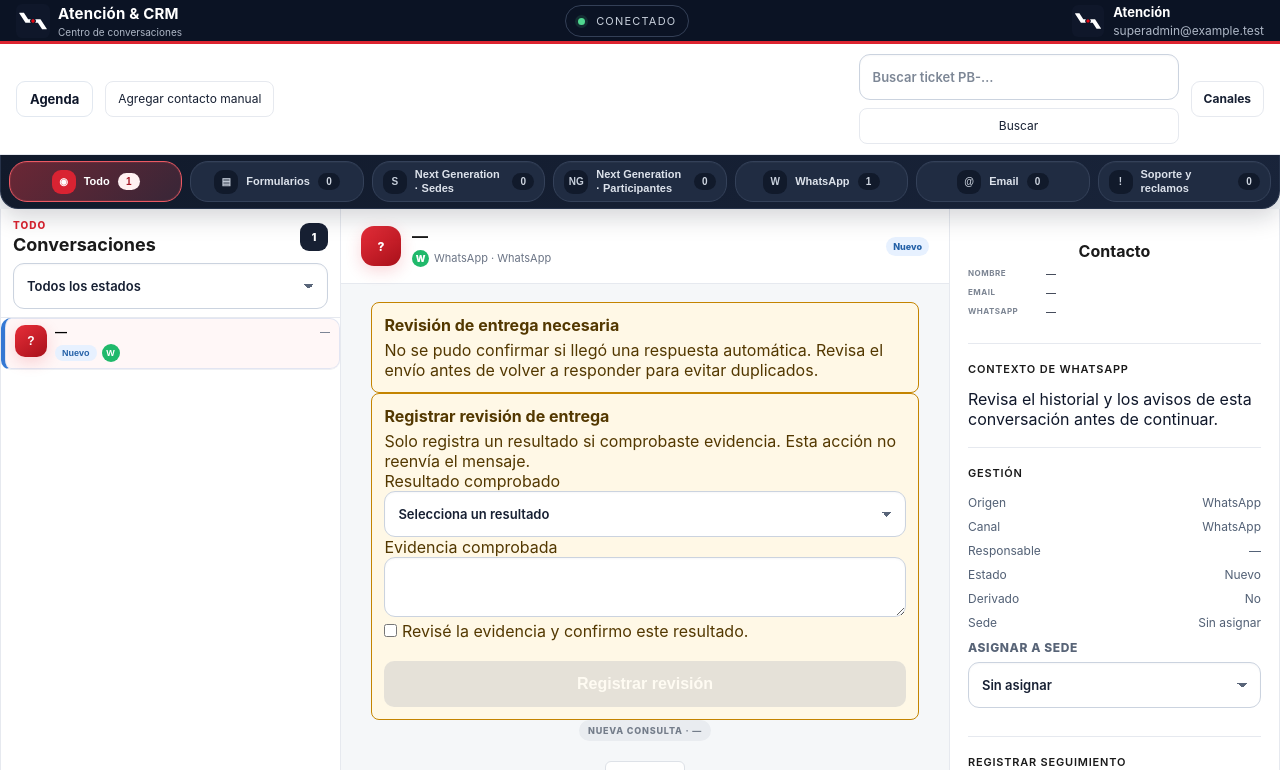
Scenario: CRM histórico unificado › tras revisar no entregado consulta el servidor y solo desbloquea si informa clear
Step 1. Select "Comprobé que no se entregó" in the dropdown labelled "Resultado comprobado" → (645, 514), box [384,491,906,537]
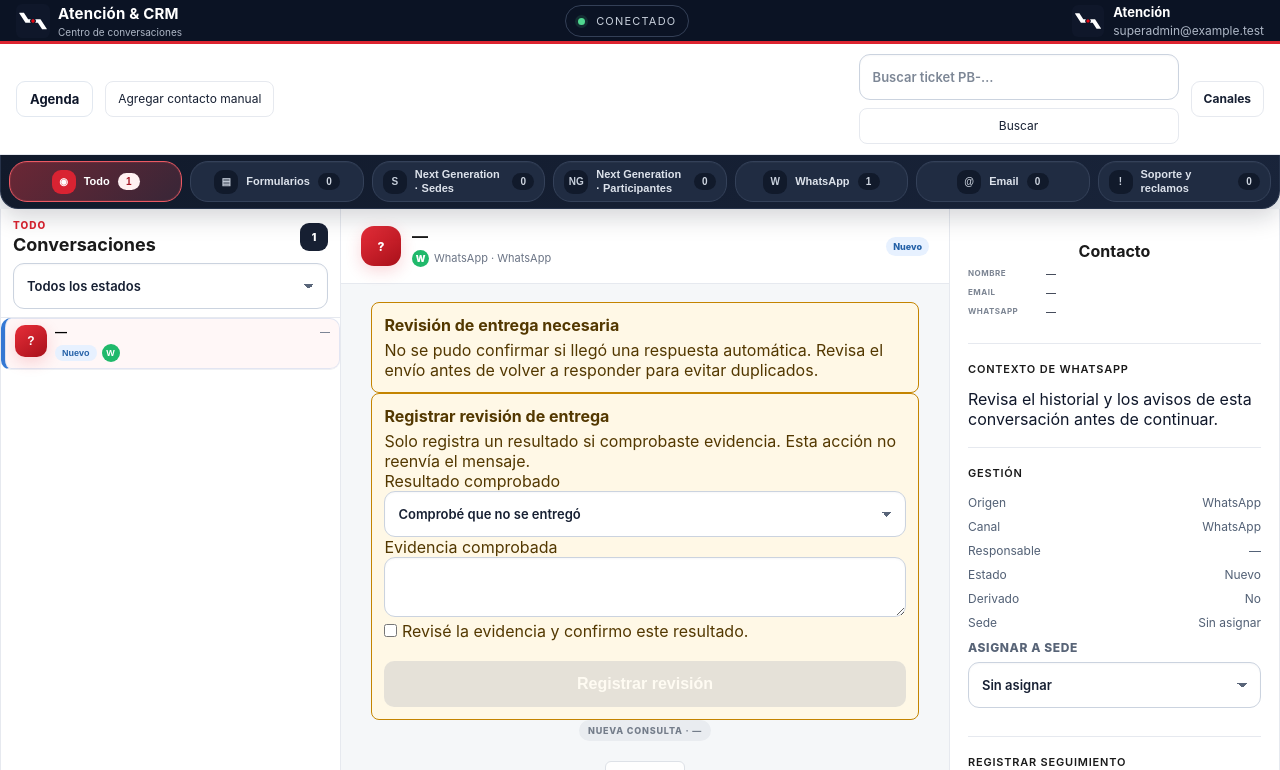
Step 2. Type "Registro de Meta revisado" into the text box labelled "Evidencia comprobada" → (645, 587), box [384,557,906,617]
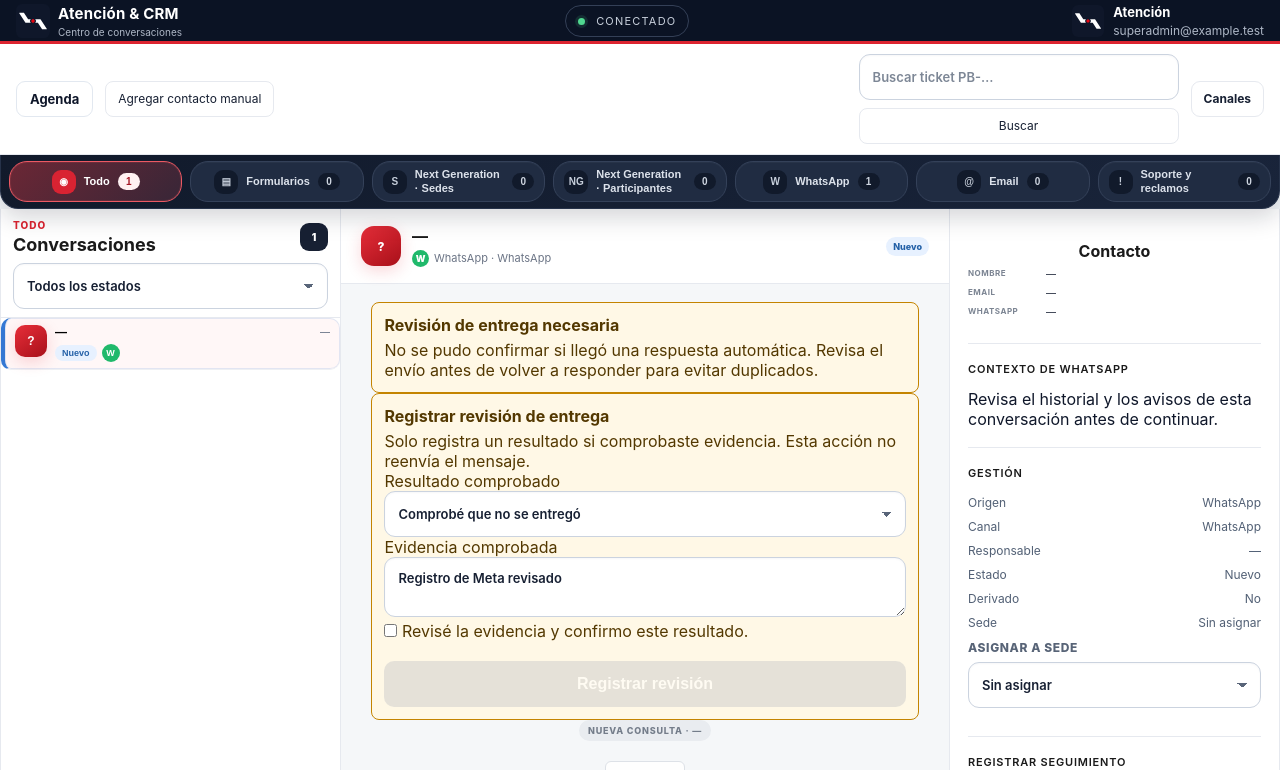
Step 3. Click the checkbox labelled "Revisé la evidencia y confirmo este resultado." → click(391, 631), box [384,624,397,637]
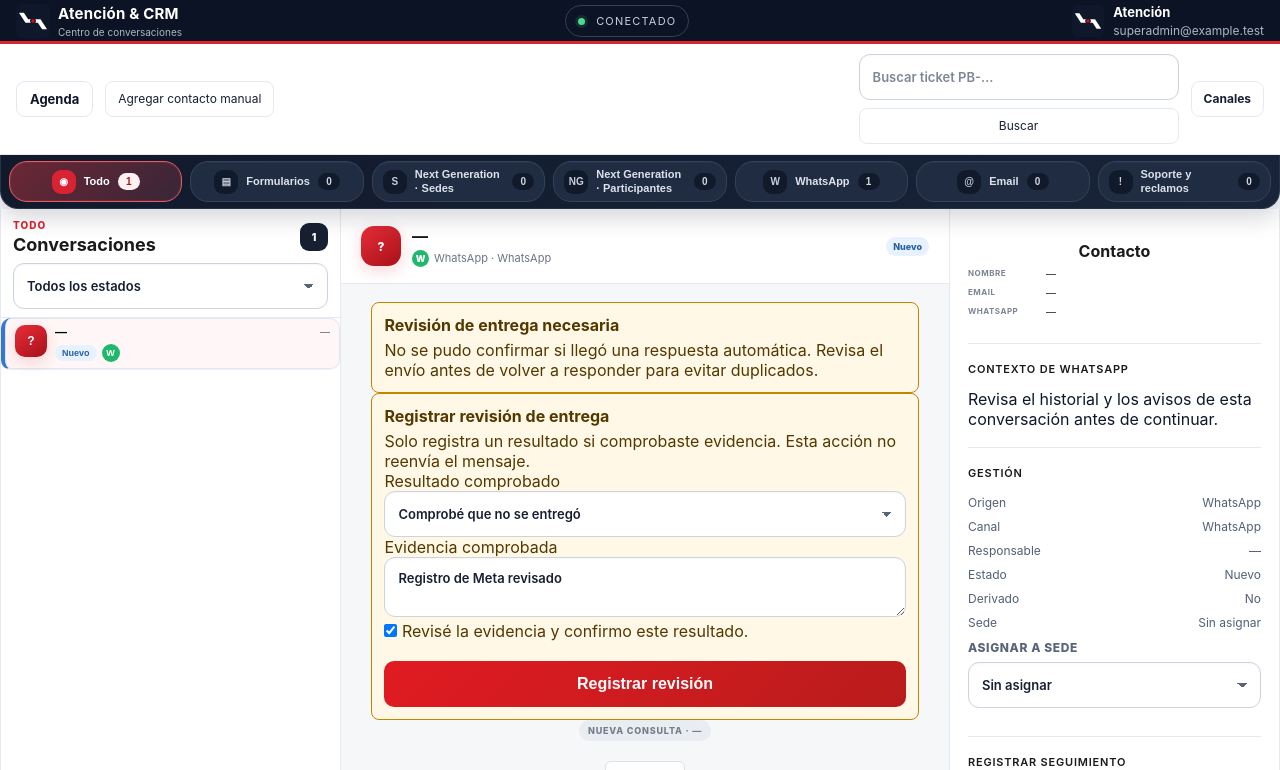
Step 4. Click the button "Registrar revisión" → click(645, 684), box [384,661,906,707]
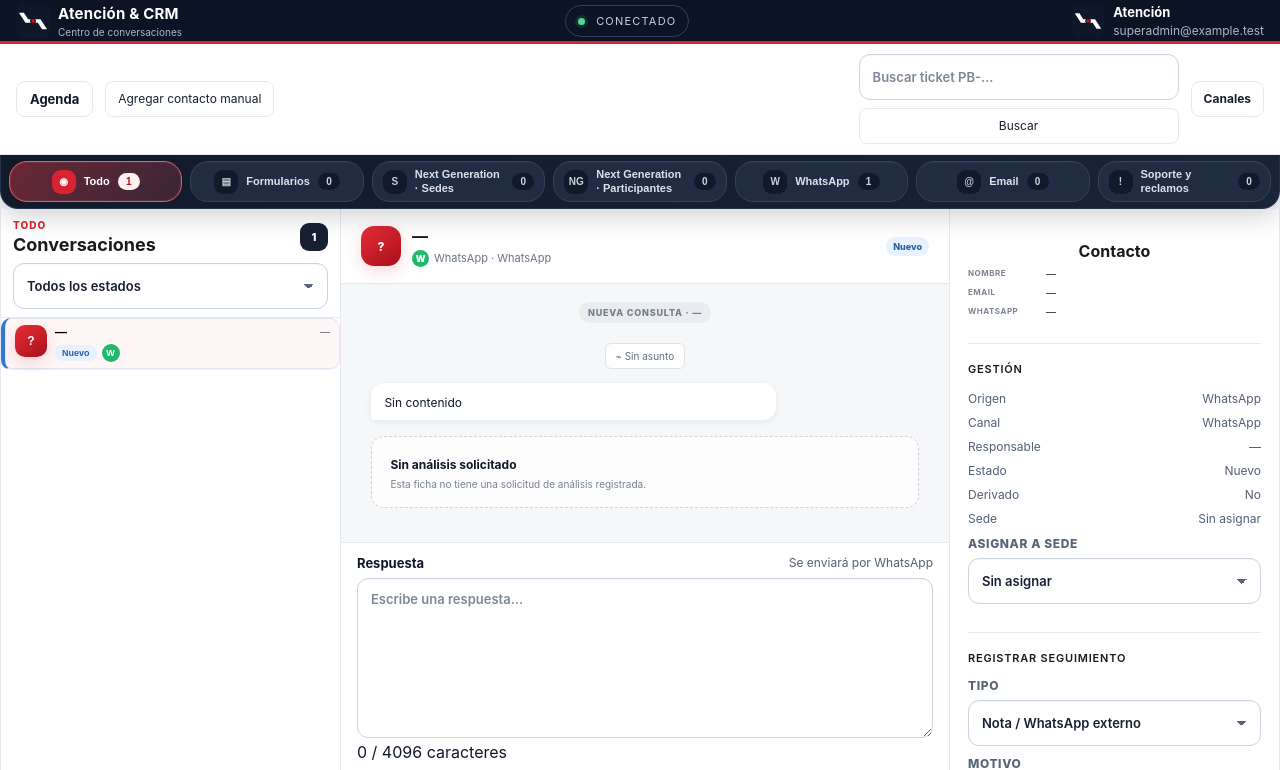
Now the text box labelled "Respuesta" is enabled, box [357,578,933,738]
